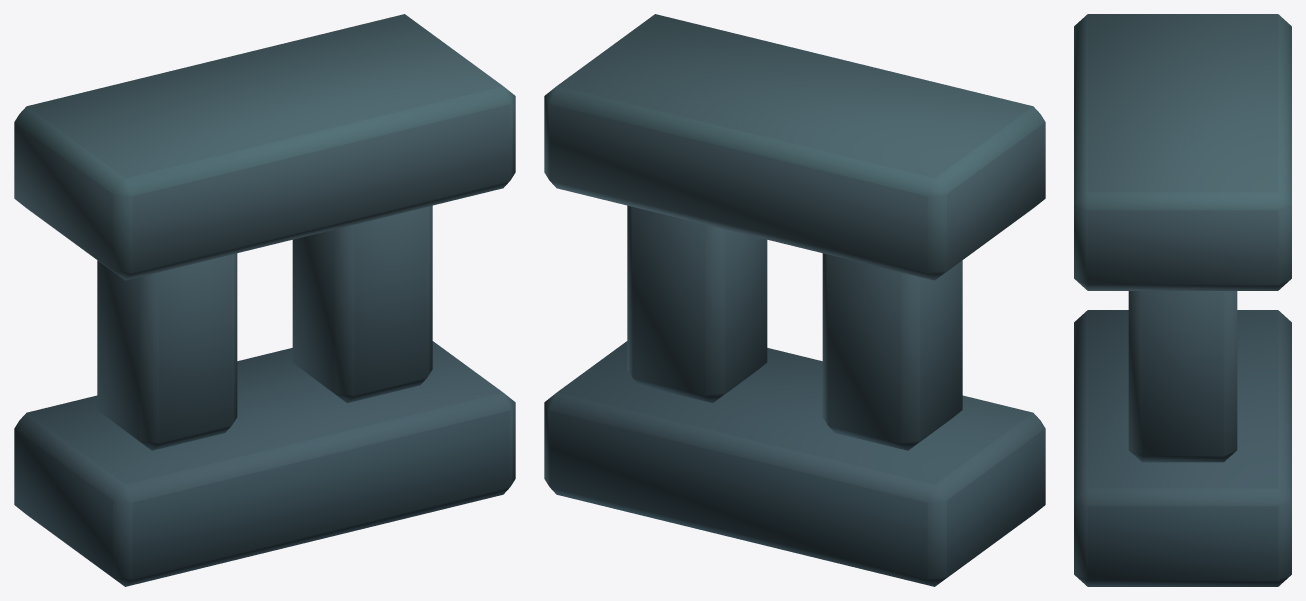
The model's file is fence_01_hue_2.fbx.
3 renders of one model, left to right at view 1: azimuth 30°, elevation 25°; view 2: azimuth 150°, elevation 25°; view 3: azimuth 270°, elevation 25°, orthographic. The views are drawn at different scales.
Visible parts, largest first — view 1: fence_01_hue_2; view 2: fence_01_hue_2; view 3: fence_01_hue_2.
Part boxes in pixels (x1,y1,x2,y2): fence_01_hue_2: [14, 14, 515, 586]; fence_01_hue_2: [544, 14, 1045, 586]; fence_01_hue_2: [1074, 14, 1291, 586].
Size of the model in its own units: 103 by 100 by 50.
